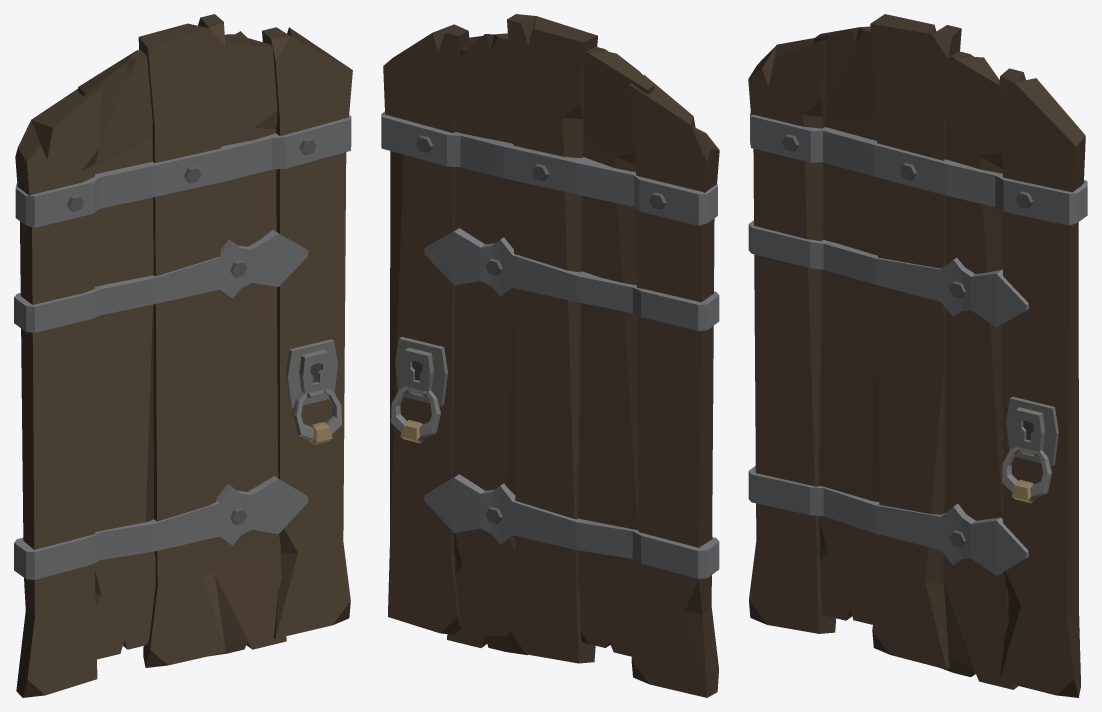
File: SM_Env_Door_02.FBX
3 renders of one model, left to right at view 1: azimuth 30°, elevation 25°; view 2: azimuth 150°, elevation 25°; view 3: azimuth 330°, elevation 25°, orthographic.
Visible parts, largest first — view 1: SM_Env_Door_02; view 2: SM_Env_Door_02; view 3: SM_Env_Door_02.
Boxes of the visible parts, x1,y1,x2,y2 form: SM_Env_Door_02: (14,14,352,697); SM_Env_Door_02: (381,14,719,697); SM_Env_Door_02: (748,14,1087,697).
Size of what is drawn, in the model's own units: 132 by 28.29 by 246.
